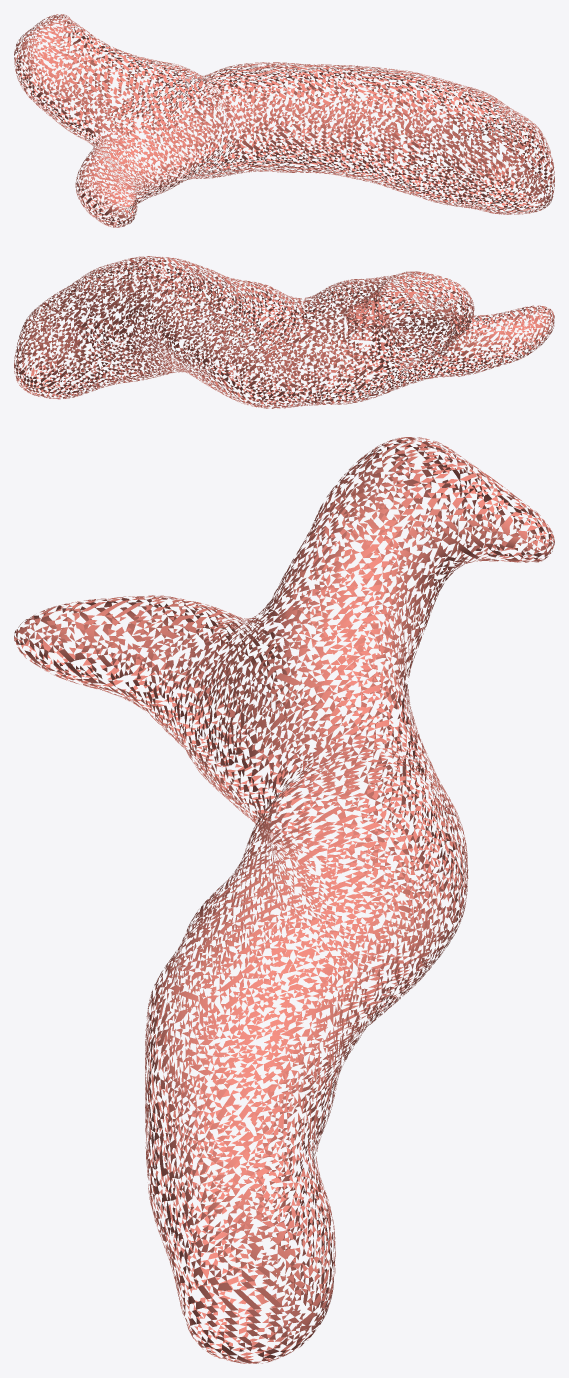
Rendered from diseased.glb.
3 renders of one model, top to bottom at view 1: azimuth 30°, elevation 25°; view 2: azimuth 150°, elevation 25°; view 3: azimuth 270°, elevation 25°, orthographic. The views are drawn at different scales.
Size of the model in its own units: 102 by 50.53 by 49.84.
